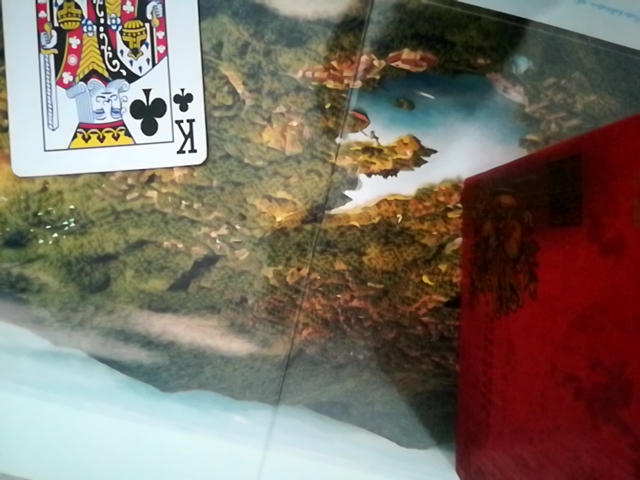mh k: (4, 0, 208, 180)
